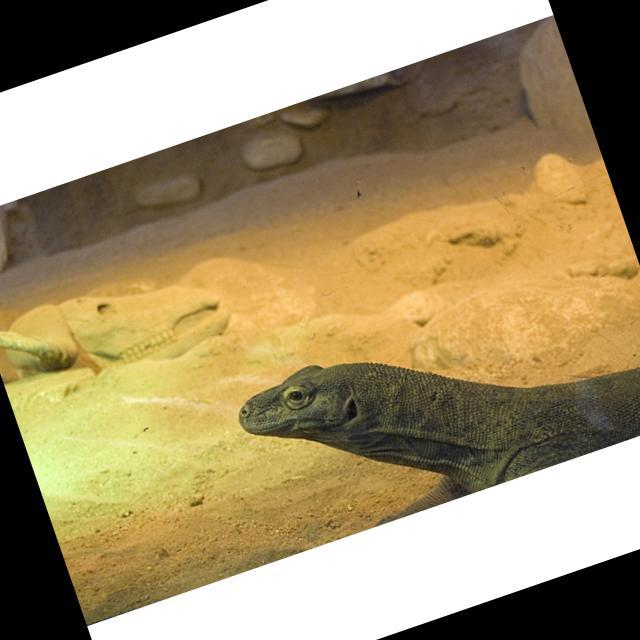KomodoDragon: (225, 252, 640, 555)
